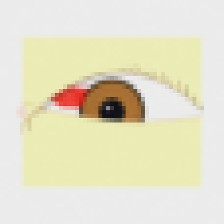hemorrhage_spot: (41, 70, 111, 125)
